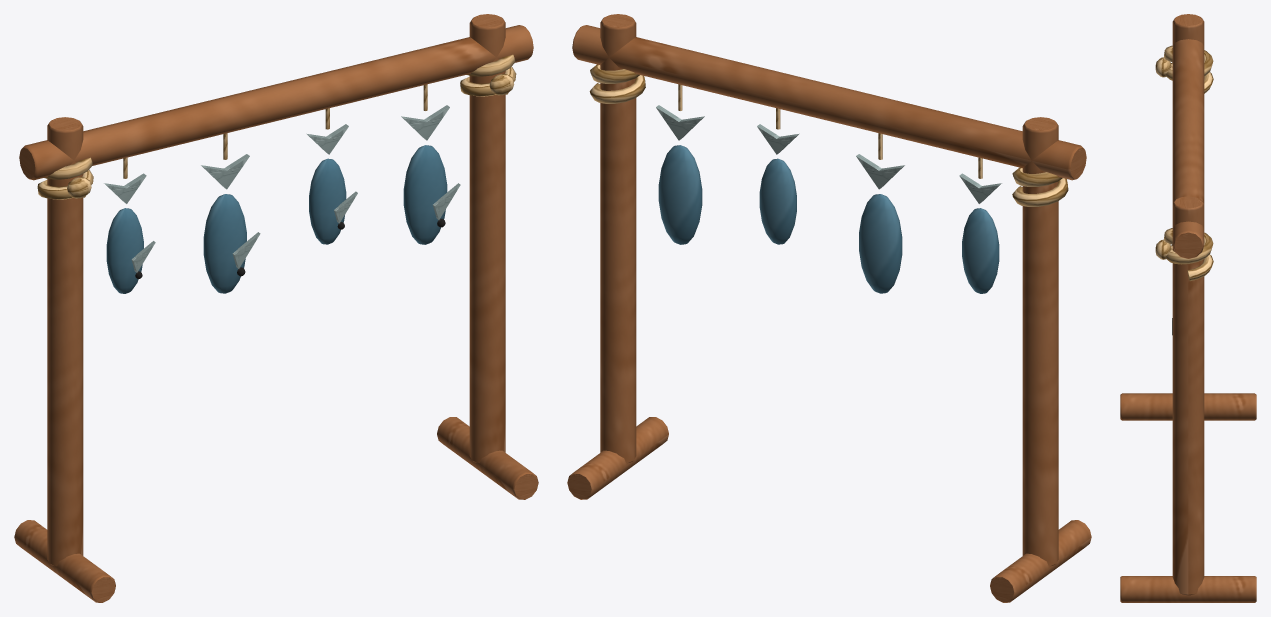
File: SM_FishRack.glb
3 renders of one model, left to right at view 1: azimuth 30°, elevation 25°; view 2: azimuth 150°, elevation 25°; view 3: azimuth 270°, elevation 25°, orthographic. The views are drawn at different scales.
Parts seen in each view (by area): view 1: SM_FishRack; view 2: SM_FishRack; view 3: SM_FishRack.
Boxes of the visible parts, bbox=[...] form: SM_FishRack: bbox=[14, 14, 538, 602]; SM_FishRack: bbox=[567, 14, 1091, 602]; SM_FishRack: bbox=[1120, 14, 1256, 602].
Size of the model in its own units: 2.24 by 1.94 by 0.6.
1 material, 1 textured.
